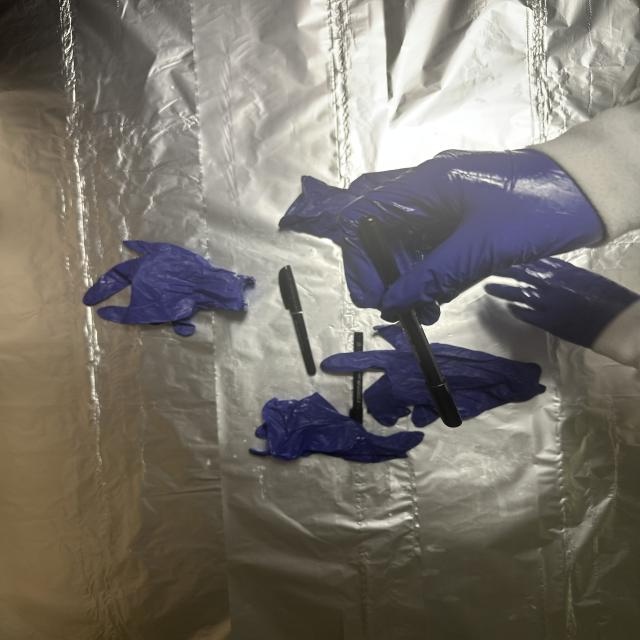gloves_contaminated: (341, 150, 638, 348)
